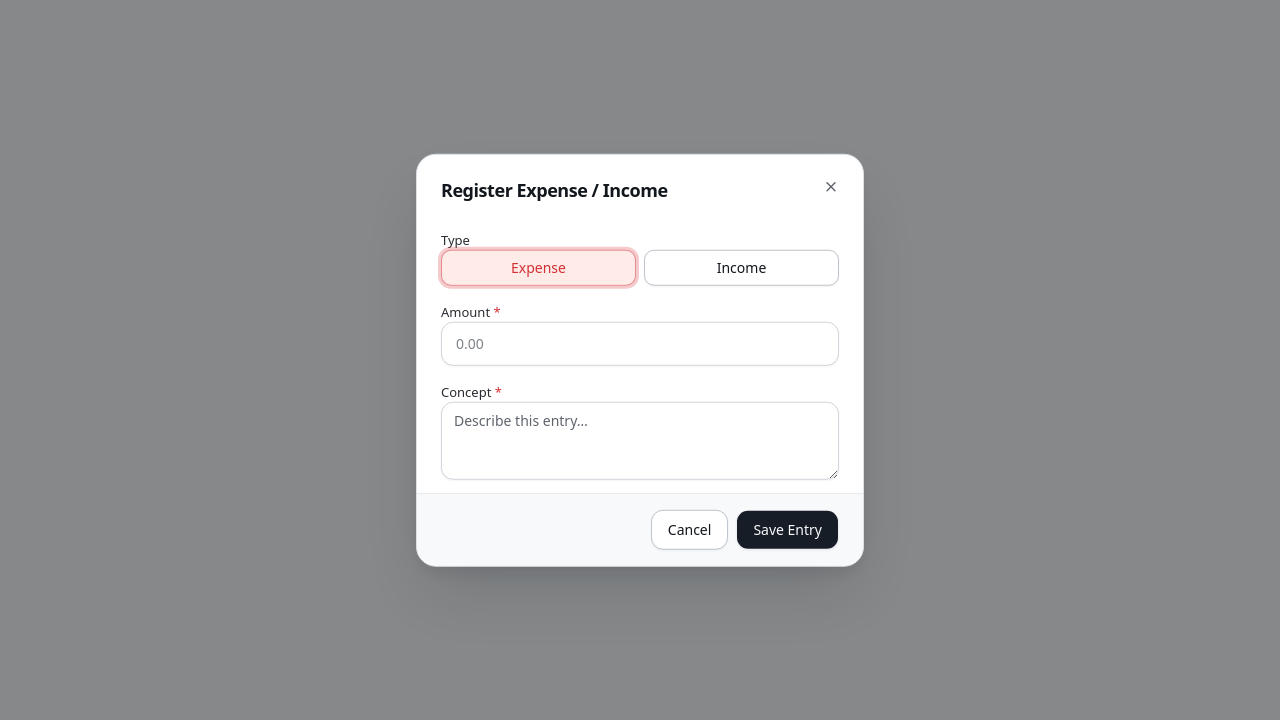
Test: RegisterCajaEntryDialog › shows validation error when amount is zero or negative
The image size is (1280, 720).
Type "0" into the number field labelled "Amount *" at point(640, 343), box left=441, top=321, right=839, bottom=365
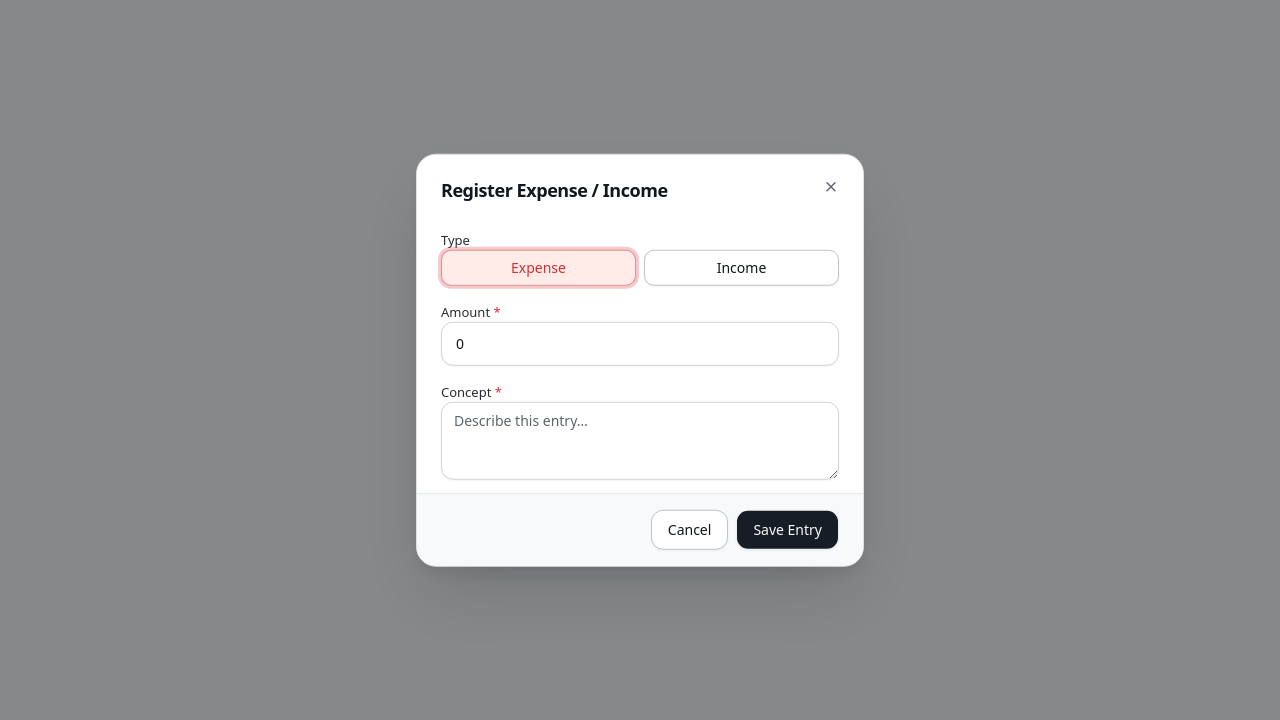
Type "Test entry" into the text box with placeholder "Describe this entry…" at point(640, 440), box left=441, top=401, right=839, bottom=479
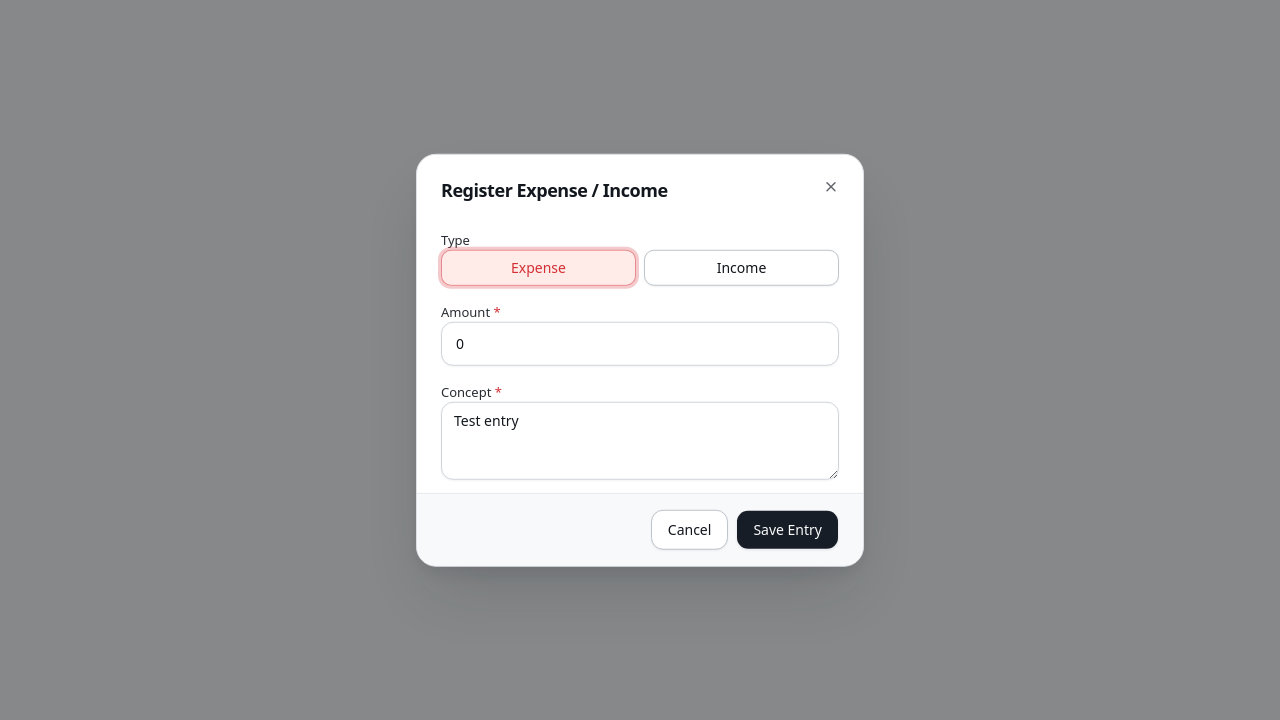
Submit the form with test id "entry-form", box left=441, top=221, right=839, bottom=541
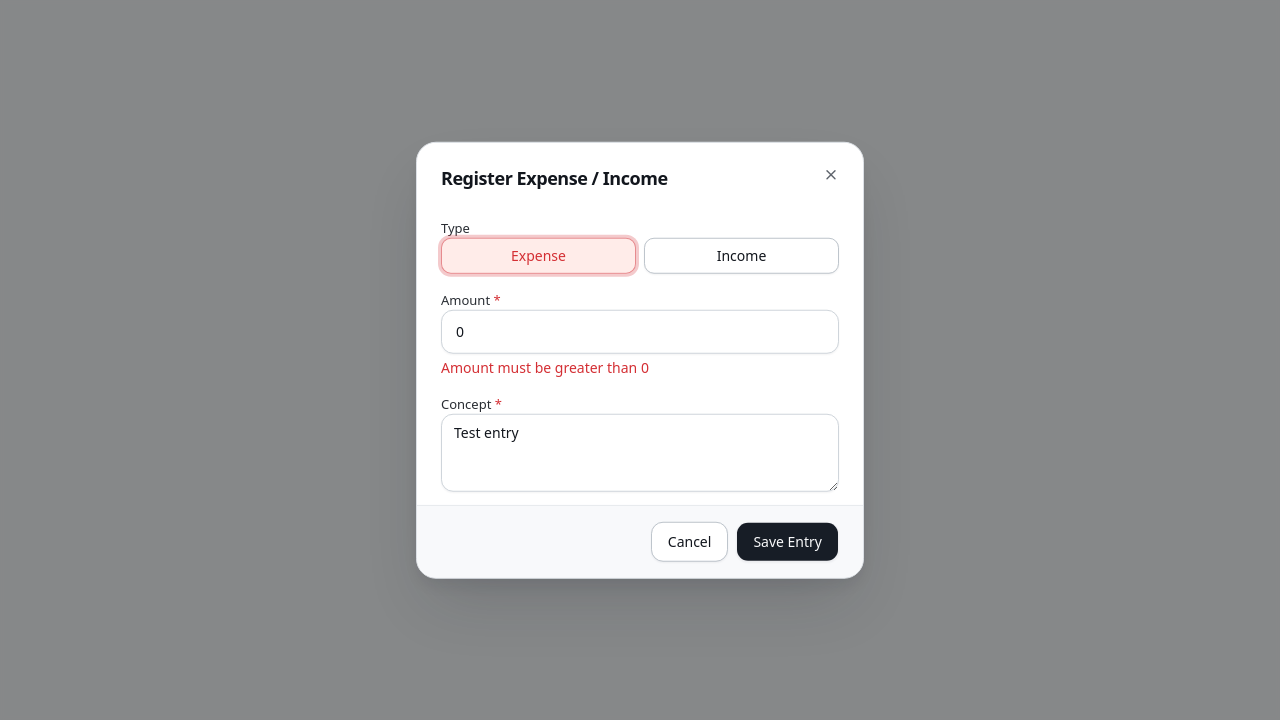
Expected: the text "Amount must be greater than 0" is shown, left=441, top=357, right=649, bottom=376
